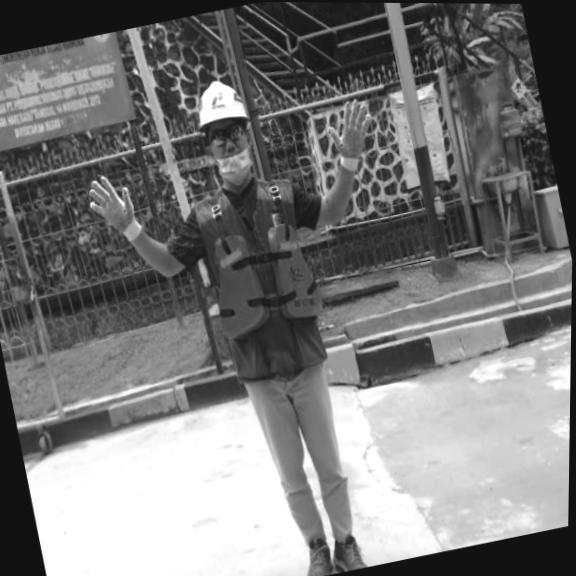safety_vest: (201, 217, 328, 343)
